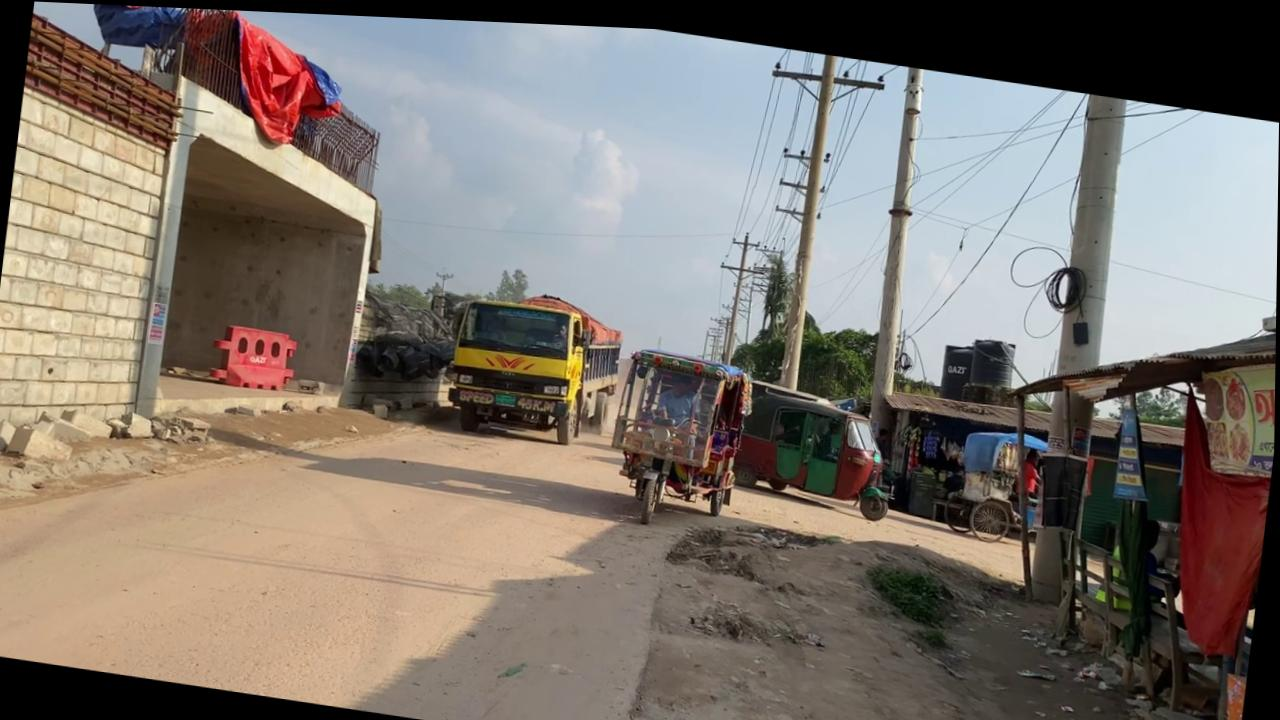Construction-barrier: (208, 317, 300, 391)
Obstacle: (973, 265, 1277, 720)
Pole: (1034, 81, 1132, 525), (862, 56, 935, 433), (778, 45, 838, 383)
Railroad-crossing: (953, 416, 1060, 541)
Rickshaw: (627, 495, 1253, 720)
Tree: (440, 274, 628, 446), (603, 337, 756, 531), (735, 377, 905, 510)
Upstairs: (0, 80, 176, 455)
